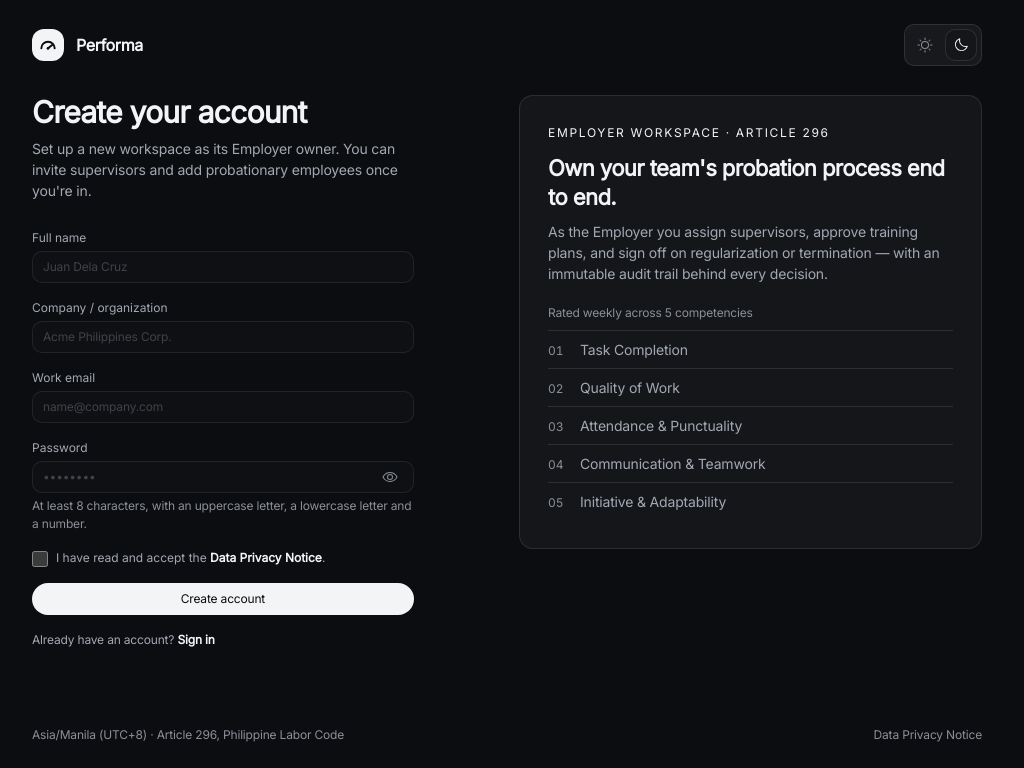
it: Register › requires accepting the Data Privacy Notice
Type "Nadia Founder" into the field labelled "Full name" at (223, 267), box [32, 251, 414, 283]
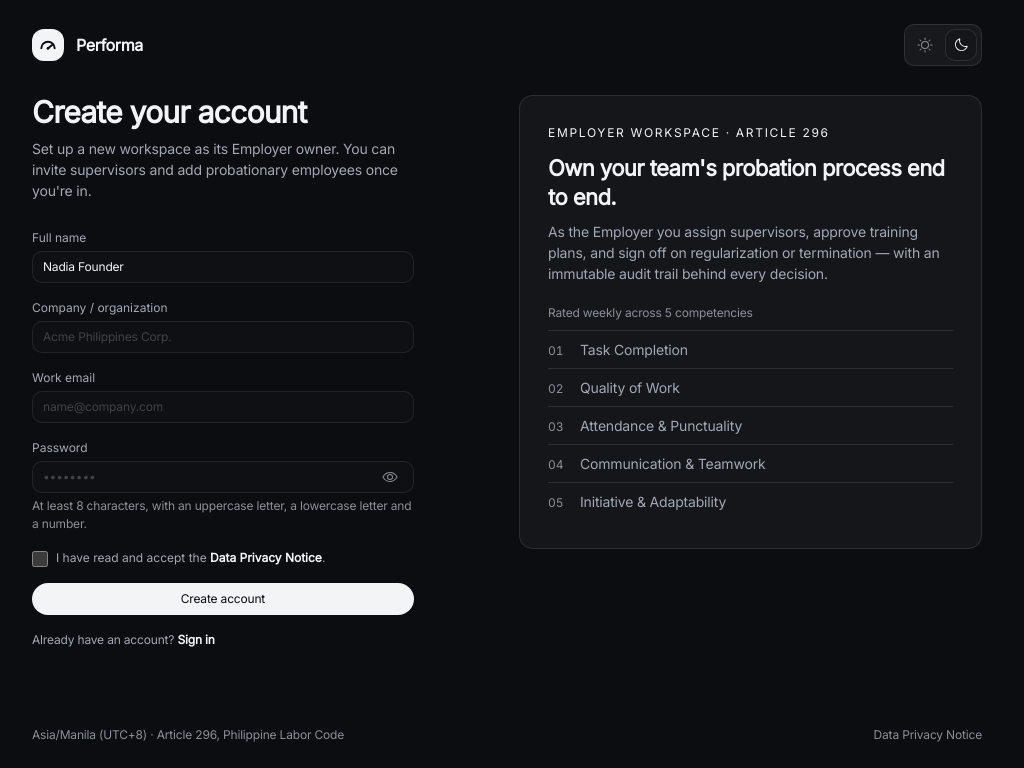
Type "Bright Co." into the field labelled "Company / organization" at (223, 337), box [32, 321, 414, 353]
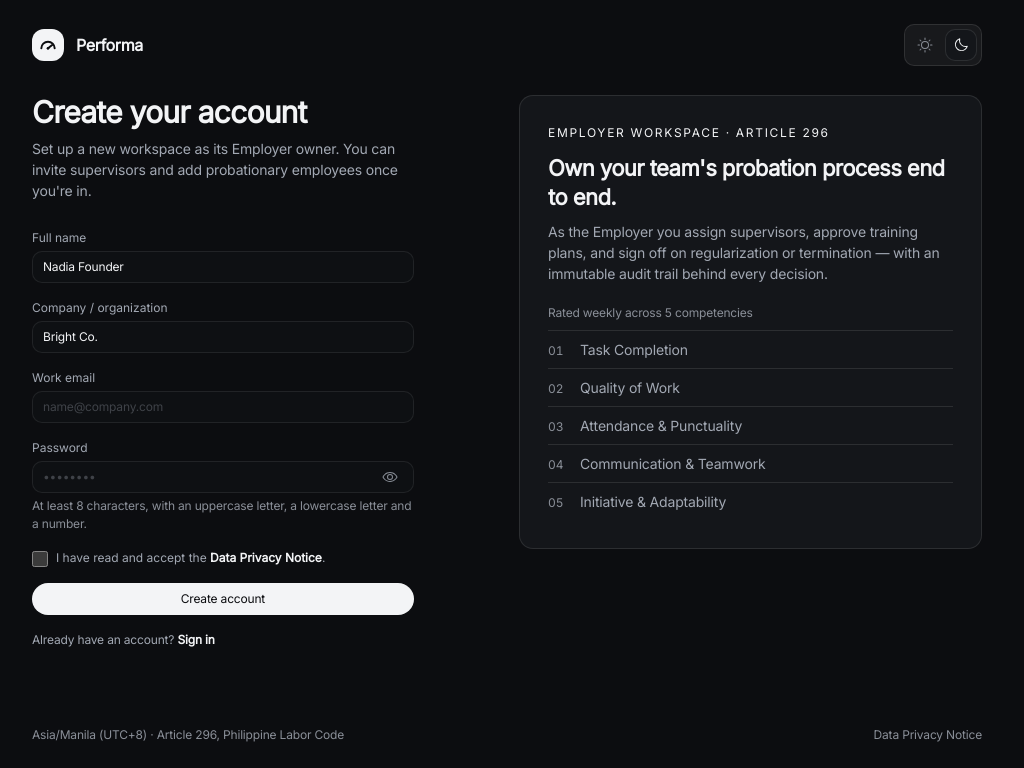
Type "nadia@bright.test" into the field labelled "Work email" at (223, 407), box [32, 391, 414, 423]
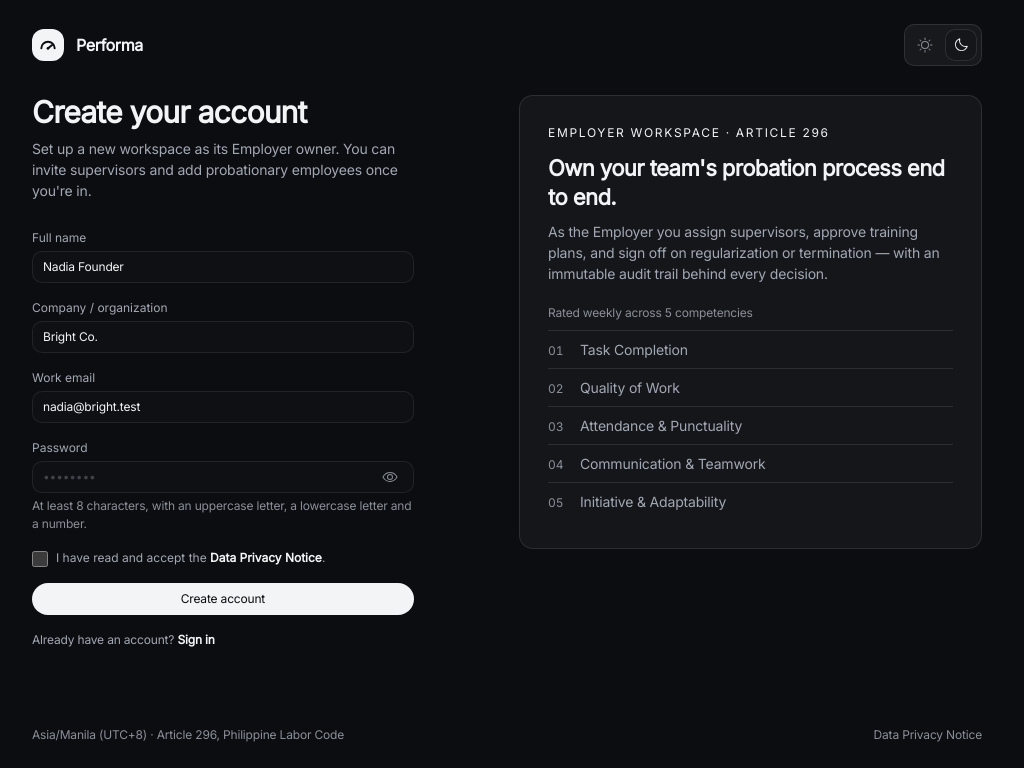
Type "Password123!" into the password field labelled "Password" at (223, 477), box [32, 461, 414, 493]
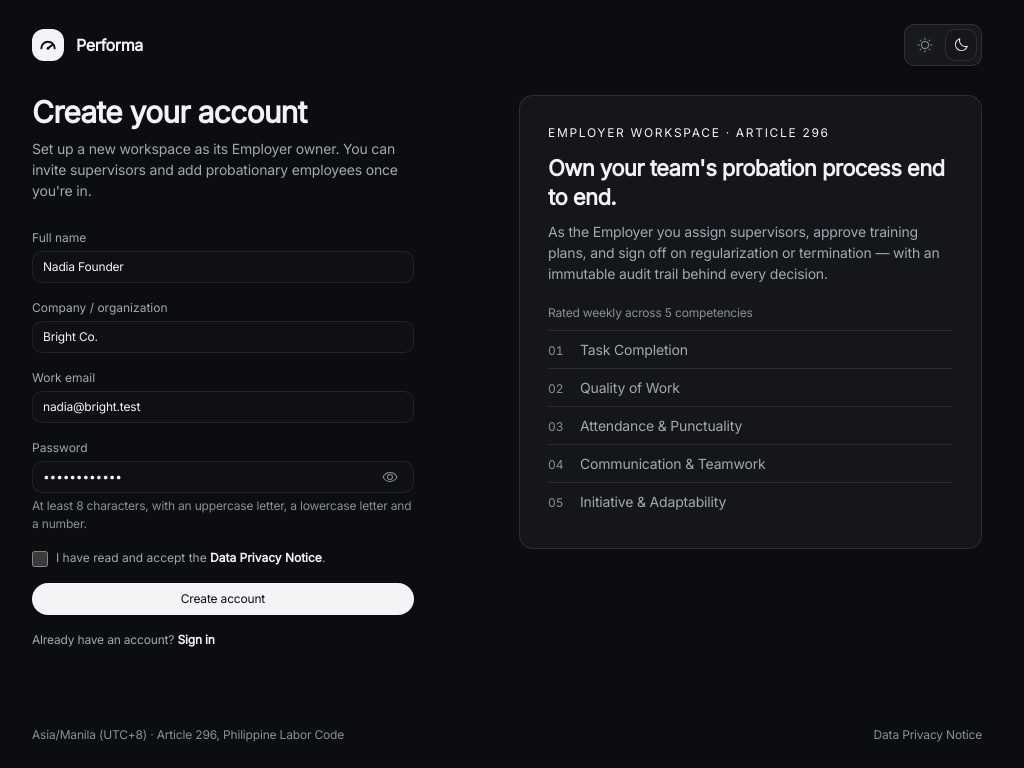
Submit the form, box [32, 229, 414, 615]
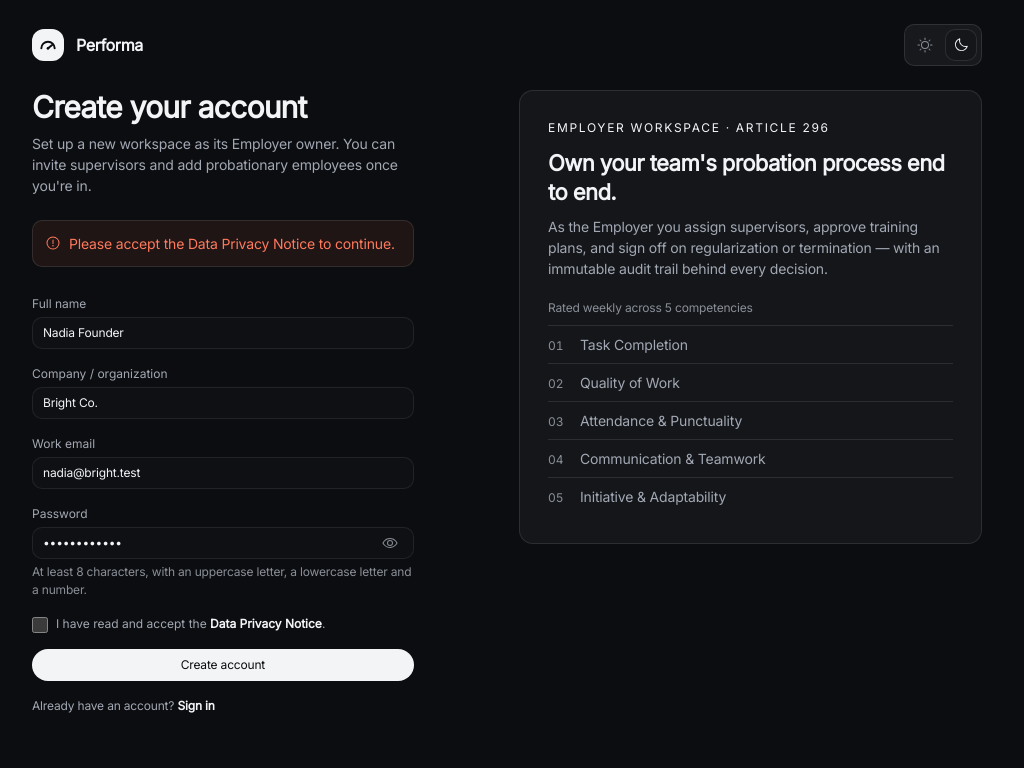
Check: the message shows "Please accept the Data Privacy Notice", box [69, 234, 395, 252]
